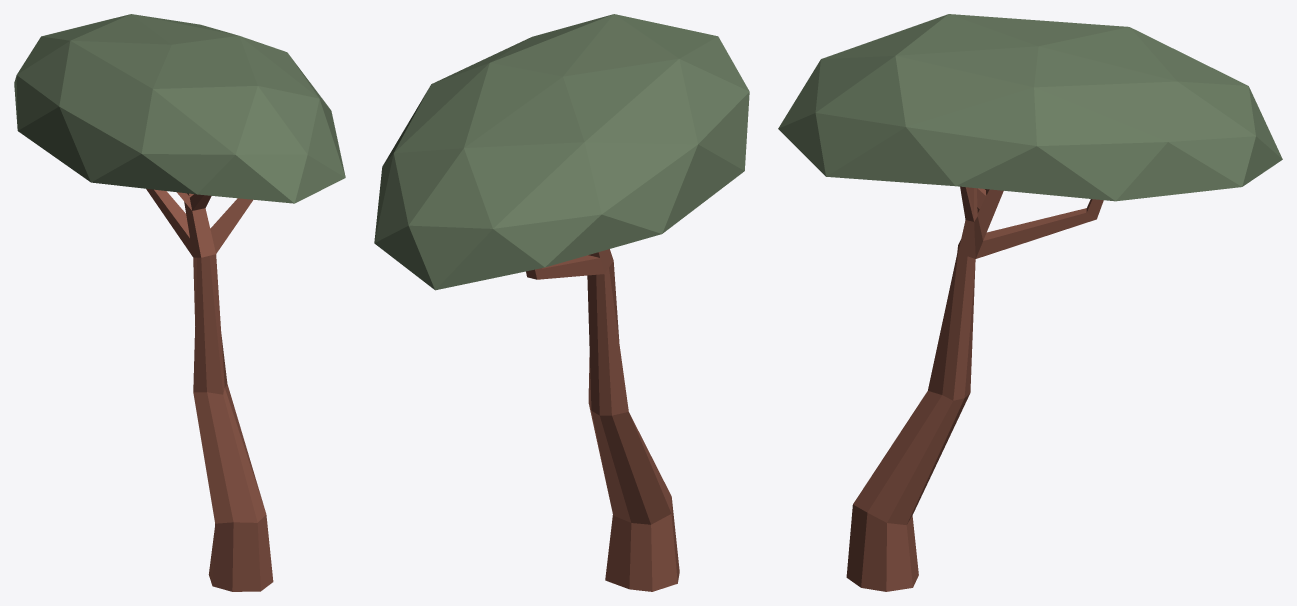
File: Trees3.gltf
3 renders of one model, left to right at view 1: azimuth 30°, elevation 25°; view 2: azimuth 150°, elevation 25°; view 3: azimuth 270°, elevation 25°, orthographic. The views are drawn at different scales.
Visible parts, largest first — view 1: Icosphere.001, Cube.001; view 2: Icosphere.001, Cube.001; view 3: Icosphere.001, Cube.001.
Boxes of the visible parts, x1,y1,x2,y2 form: Icosphere.001: (14, 14, 345, 203); Cube.001: (146, 188, 273, 591); Icosphere.001: (374, 14, 749, 290); Cube.001: (526, 249, 679, 591); Icosphere.001: (778, 14, 1282, 201); Cube.001: (846, 186, 1103, 591).
Size of the model in its own units: 11.81 by 22.62 by 19.44.
